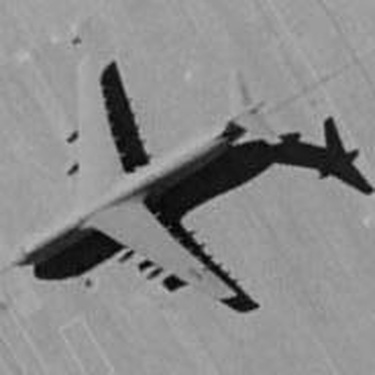airplane: (2, 34, 251, 321)
